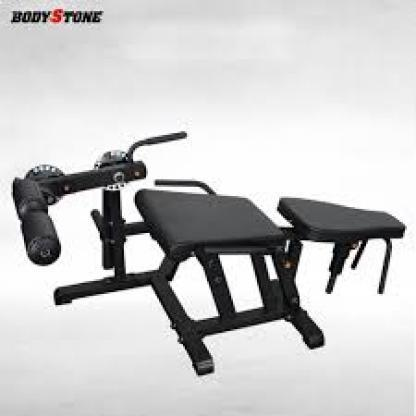reg curl machine: (11, 125, 408, 376)
